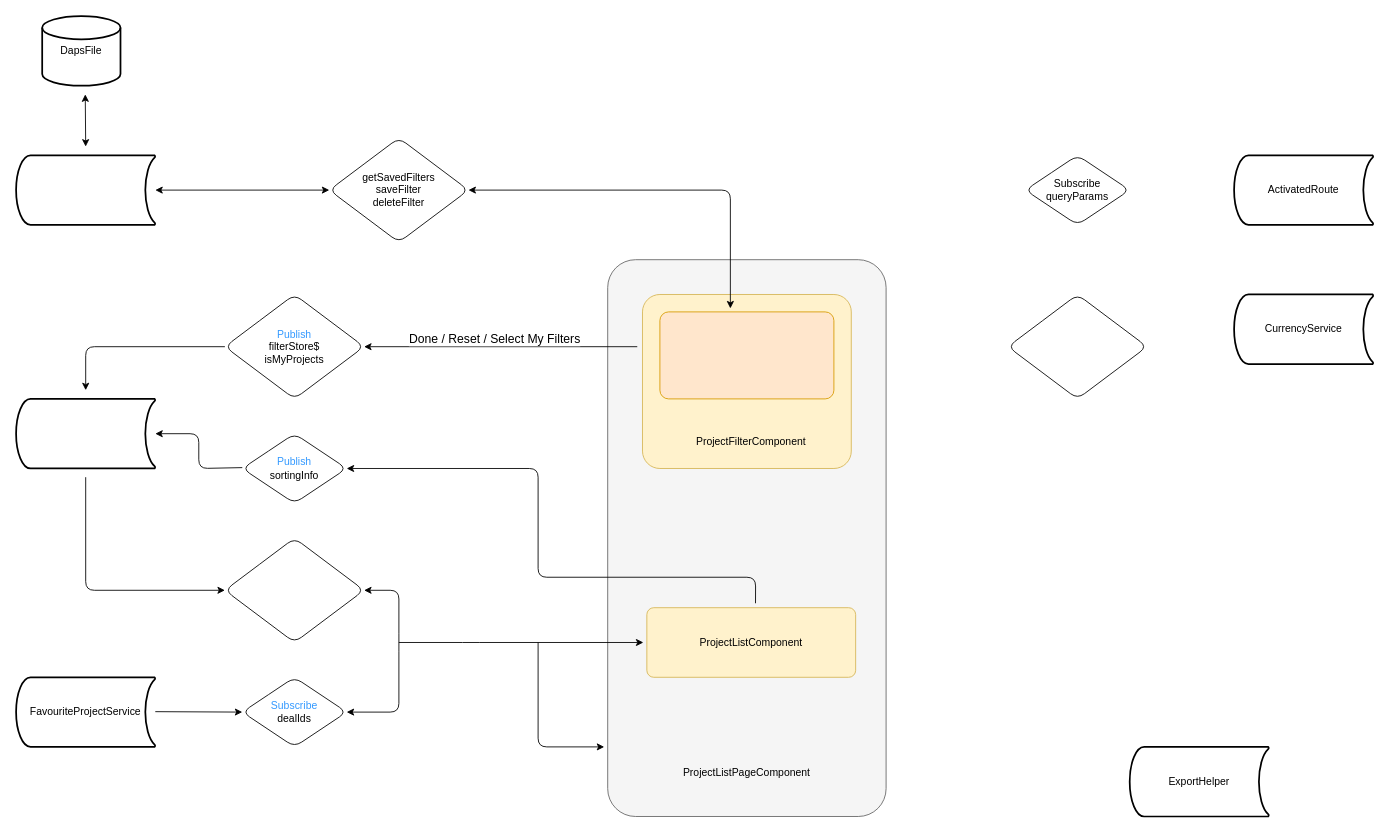
This 1389x832 diagram has some shape labels left out. The centre of each missing label's shape, as x and y in pixels:
ProjectFilterService: the point at 85,433
ProjectSaveFilterComponent: the point at 746,355
ProjectSaveFilterService: the point at 85,189
Subscribe currentBehaviorSubject: the point at 1077,346
Subscribe filterStore$ isMyProjects sortingInfo: the point at 294,589
